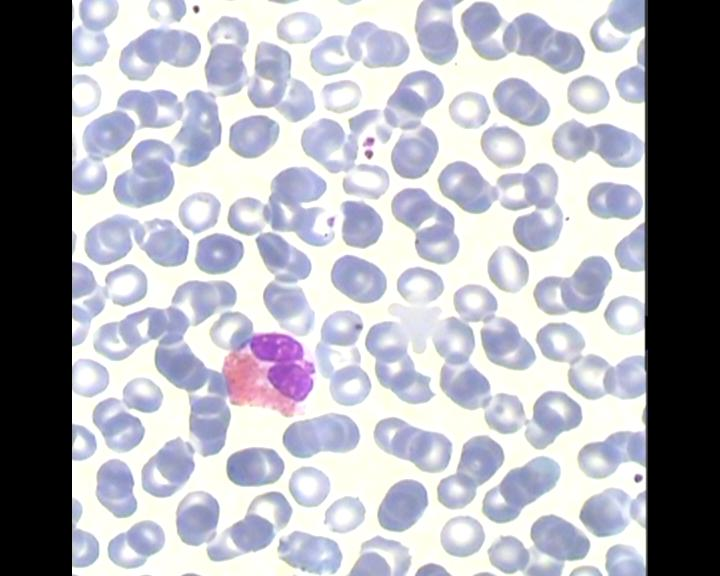eosi: (217, 331, 318, 419)
